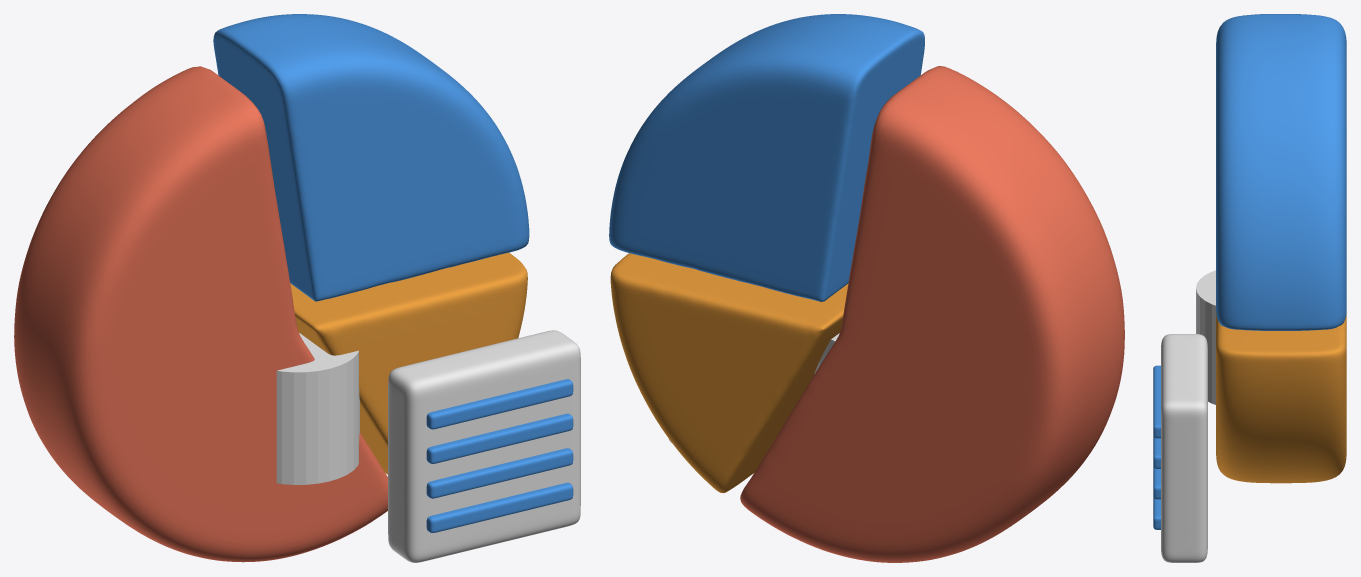
The model's file is pie_chart.glb.
3 views of the same model, side by side, from view 1: azimuth 30°, elevation 25°; view 2: azimuth 150°, elevation 25°; view 3: azimuth 270°, elevation 25° (orthographic). The views are drawn at different scales.
Parts seen in each view (by area): view 1: Cylinder_split_2, Cylinder_1_split_2, Box_2, Cylinder_6, Fokus, Box_3, Box_3.002, Box_3.001, Box_3.003; view 2: Cylinder_split_2, Cylinder_1_split_2, Cylinder_6; view 3: Cylinder_1_split_2, Cylinder_6, Box_2, Fokus, Box_3.001.
Part boxes in pixels (bbox=[...]): Cylinder_split_2: bbox=[14, 66, 387, 562]; Cylinder_1_split_2: bbox=[213, 14, 529, 301]; Box_2: bbox=[388, 330, 580, 562]; Cylinder_6: bbox=[290, 252, 527, 474]; Fokus: bbox=[276, 333, 359, 484]; Box_3: bbox=[426, 413, 573, 463]; Box_3.002: bbox=[426, 482, 573, 532]; Box_3.001: bbox=[426, 379, 573, 429]; Box_3.003: bbox=[426, 448, 573, 498]; Cylinder_split_2: bbox=[740, 66, 1124, 562]; Cylinder_1_split_2: bbox=[609, 14, 924, 301]; Cylinder_6: bbox=[610, 253, 848, 493]; Cylinder_1_split_2: bbox=[1216, 14, 1346, 330]; Cylinder_6: bbox=[1216, 312, 1346, 483]; Box_2: bbox=[1161, 334, 1207, 562]; Fokus: bbox=[1196, 270, 1215, 404]; Box_3.001: bbox=[1153, 365, 1160, 438].
Size of the model in its own units: 8.88 by 8.86 by 3.53.
